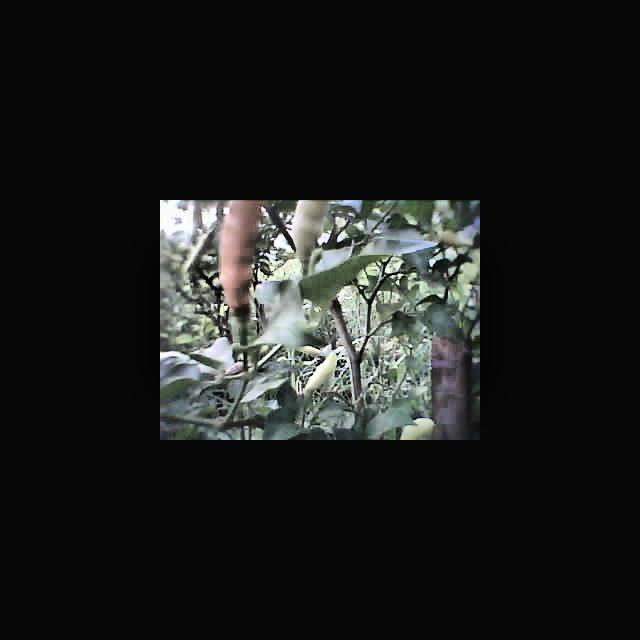Cabai: (222, 202, 256, 312)
